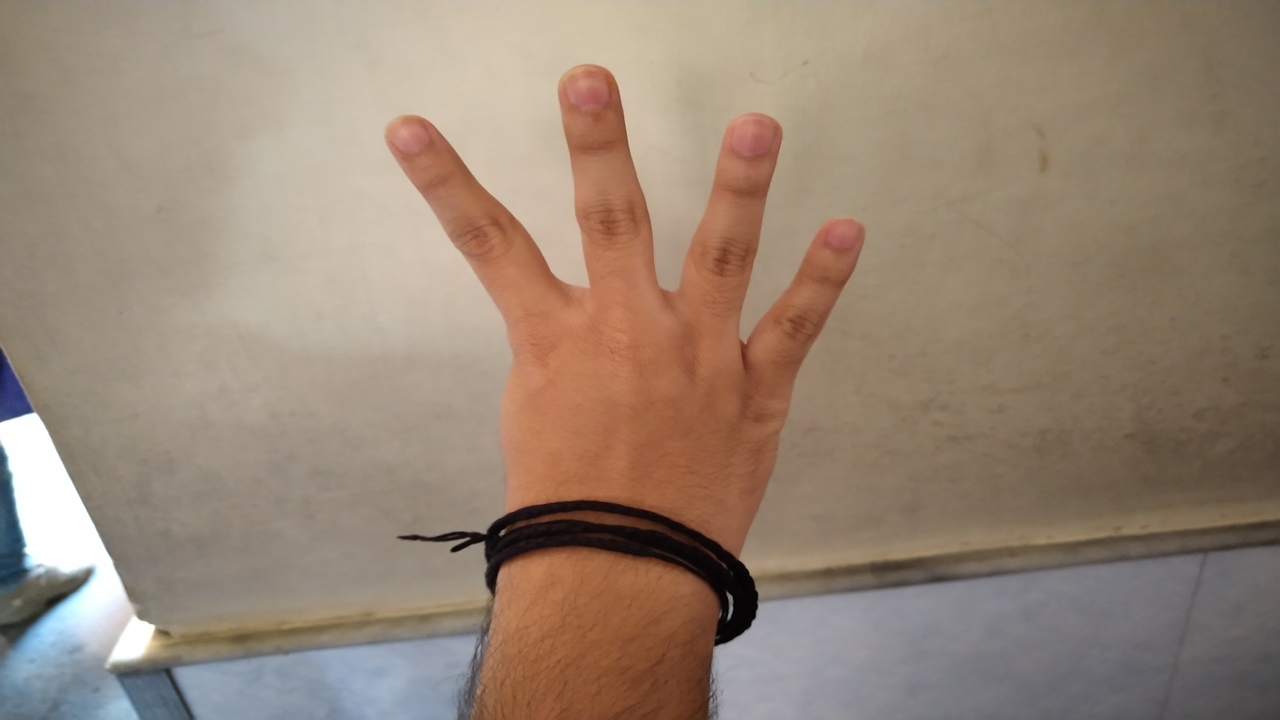fingertip: (716, 110, 788, 172), (374, 112, 444, 168), (806, 208, 870, 268), (554, 64, 622, 120)
